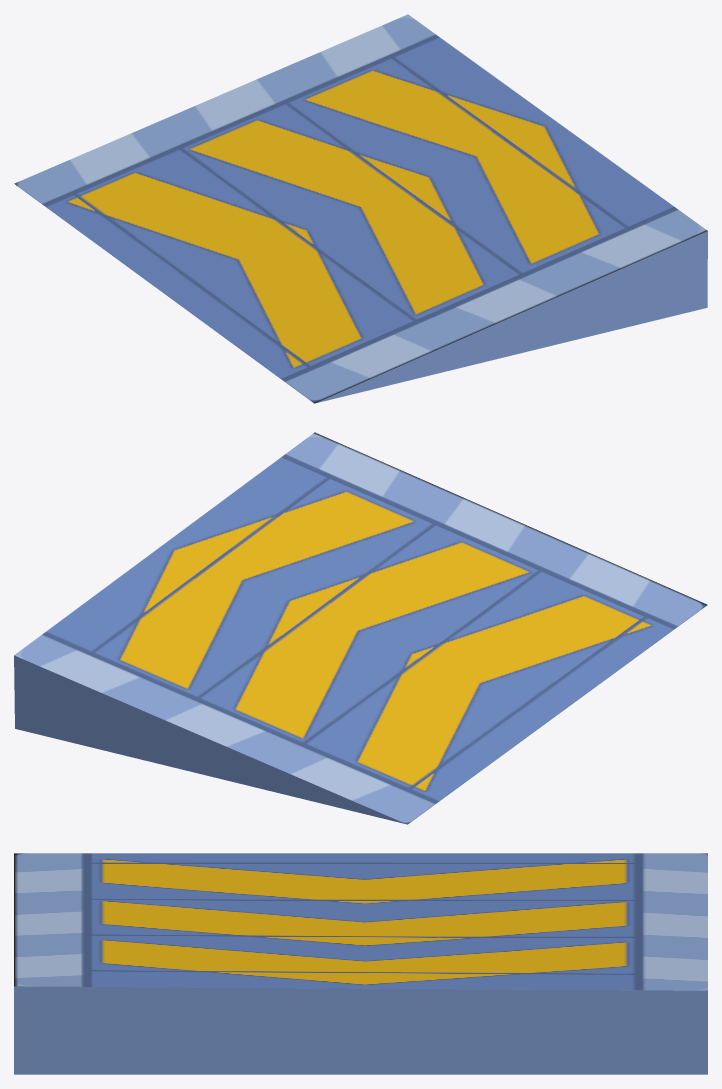
Rendered from launchpadfbx.fbx.
3 renders of one model, top to bottom at view 1: azimuth 30°, elevation 25°; view 2: azimuth 150°, elevation 25°; view 3: azimuth 270°, elevation 25°, orthographic. The views are drawn at different scales.
Parts seen in each view (by area): view 1: bridge p1.001; view 2: bridge p1.001; view 3: bridge p1.001.
Boxes of the visible parts, <box> form: bridge p1.001: <box>14,14,707,403</box>; bridge p1.001: <box>14,432,707,824</box>; bridge p1.001: <box>14,853,707,1074</box>.
Bounding box in the file's own units: 151 × 28.17 × 200.
2 materials, 1 textured.
